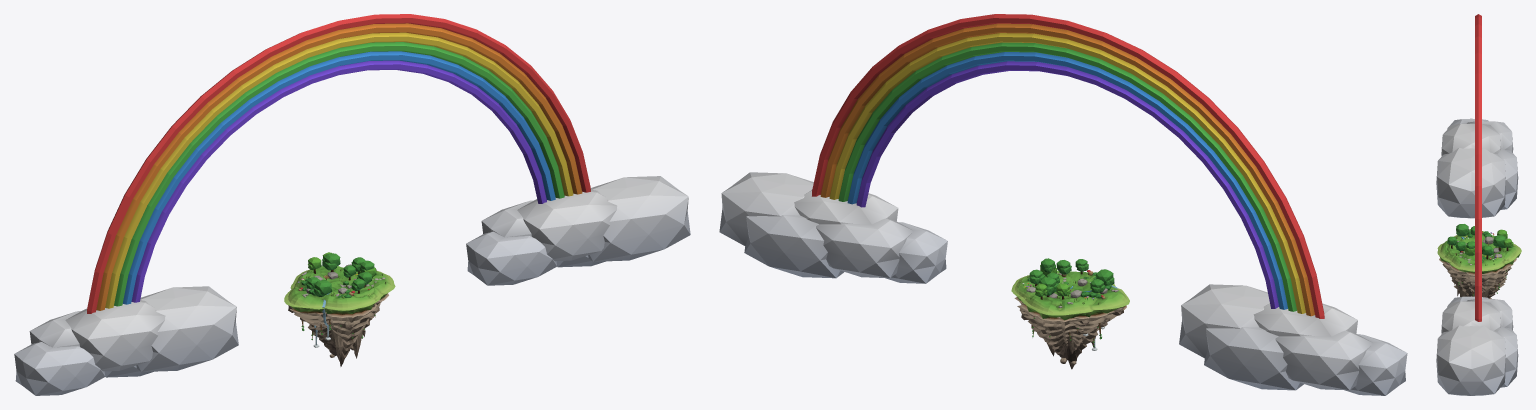
File: isle-meadow-CVEeGk-C.glb
The picture shows the model from 3 angles, left to right: view 1: azimuth 30°, elevation 25°; view 2: azimuth 150°, elevation 25°; view 3: azimuth 270°, elevation 25°; orthographic projection. The views are drawn at different scales.
Parts seen in each view (by area): view 1: far, isle_2, isle_1, isle_0; view 2: far, isle_2, isle_1, isle_0; view 3: far, isle_2, isle_1, isle_0.
Boxes of the visible parts, <box> form: far: <box>14,14,690,395</box>; isle_2: <box>290,252,380,366</box>; isle_1: <box>284,253,395,350</box>; isle_0: <box>306,264,383,327</box>; far: <box>719,14,1407,395</box>; isle_2: <box>1020,258,1115,369</box>; isle_1: <box>1011,259,1129,352</box>; isle_0: <box>1018,265,1114,336</box>; far: <box>1436,14,1518,395</box>; isle_2: <box>1437,230,1521,298</box>; isle_1: <box>1447,229,1507,293</box>; isle_0: <box>1443,224,1509,275</box>.
Size of the model in its own units: 686 by 342 by 95.34.
